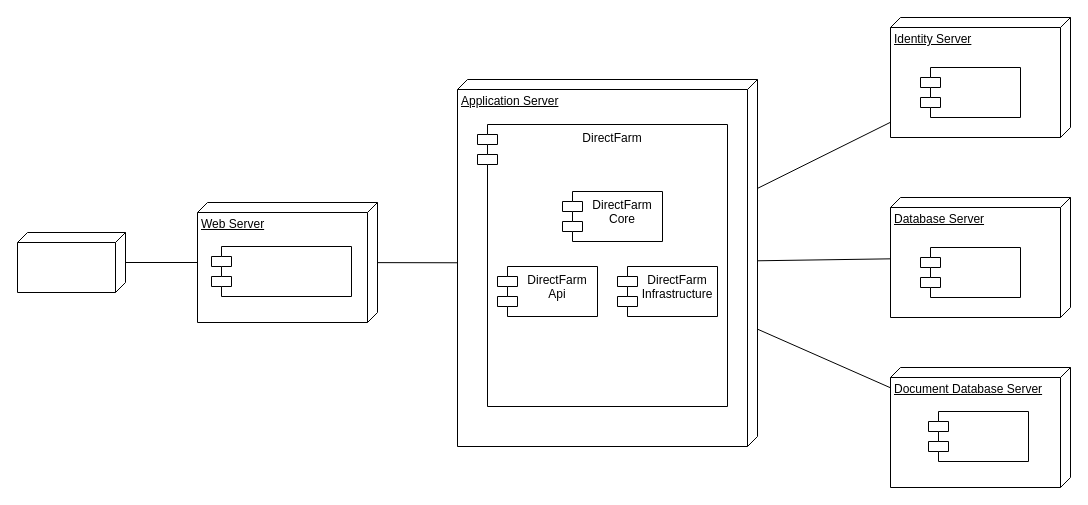
The diagram is 1088 pixels wide and 505 high, and some of its shapes have lost their labels. The centre of each missing label's shape, as x and y in pixels:
"Client (Browser)" belongs at [71,262].
"DirectFarm.web" belongs at [281,271].
"KeyCloak" belongs at [970,92].
"Mini IO" belongs at [978,436].
"Postgrerss" belongs at [970,272].
